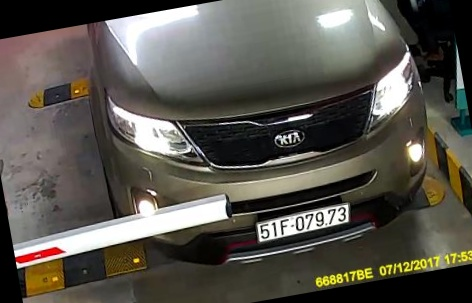plate: (251, 193, 357, 248)
